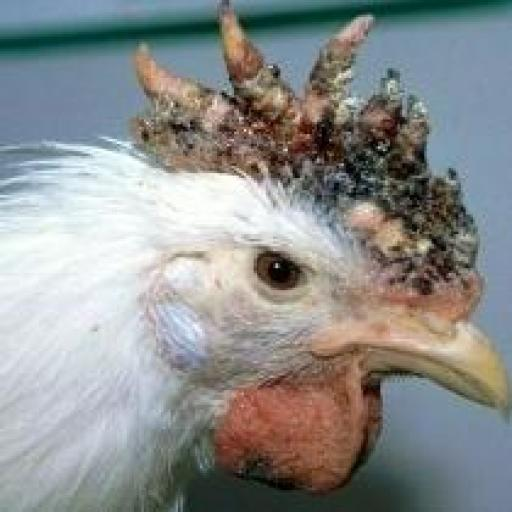disease: (122, 28, 490, 316), (228, 443, 314, 492)
